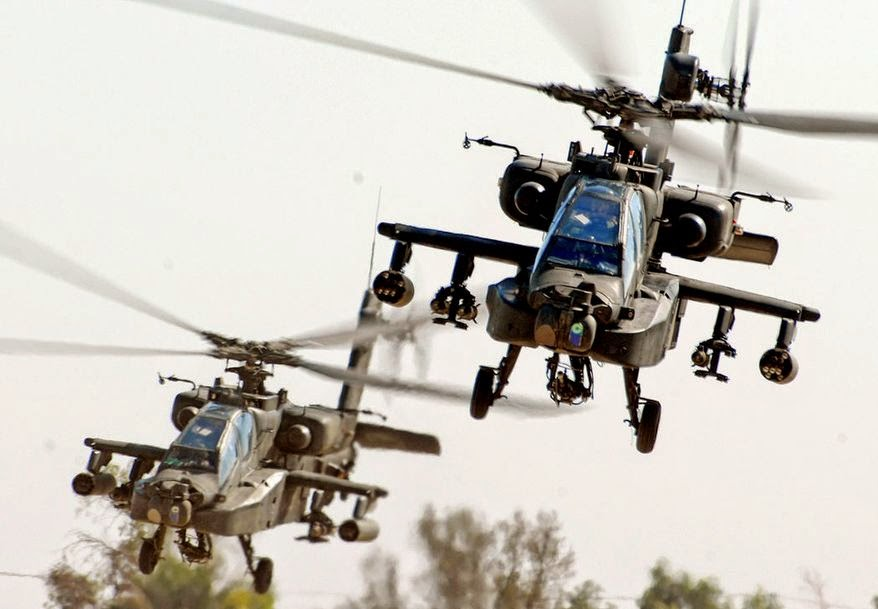MilitaryHelicopter: (455, 55, 831, 450), (78, 308, 431, 583)
